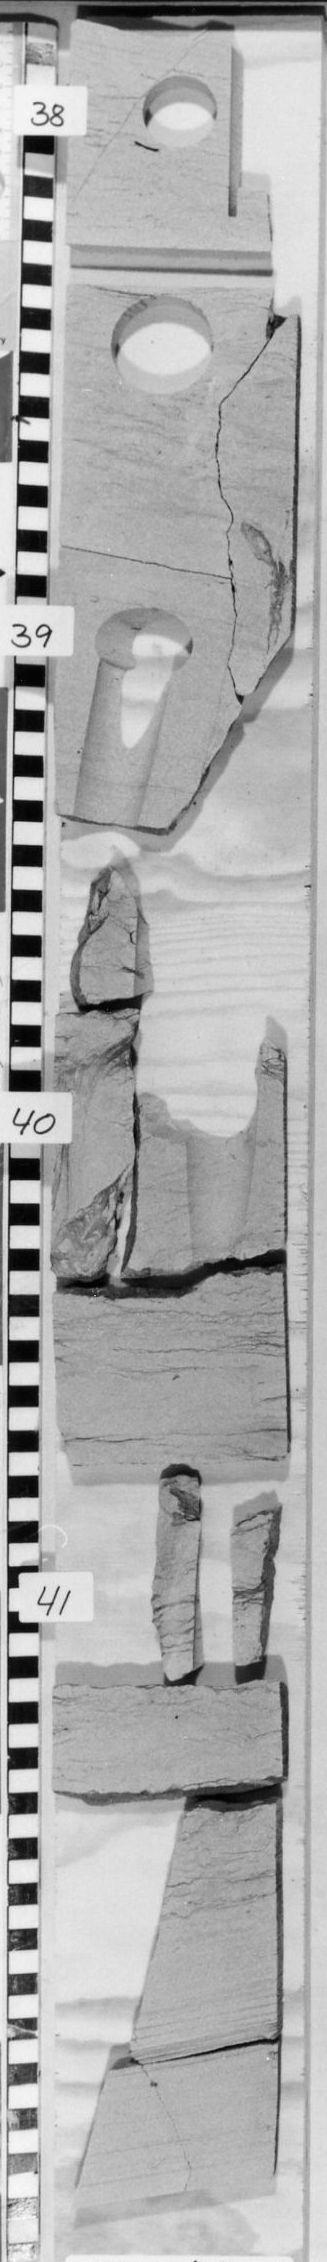hplug: (166, 1053, 274, 1141), (88, 599, 205, 669), (133, 66, 220, 159)
scal: (107, 291, 226, 402)
vplug: (71, 672, 174, 831), (176, 1510, 255, 1691), (216, 36, 274, 237), (164, 1143, 256, 1258)
